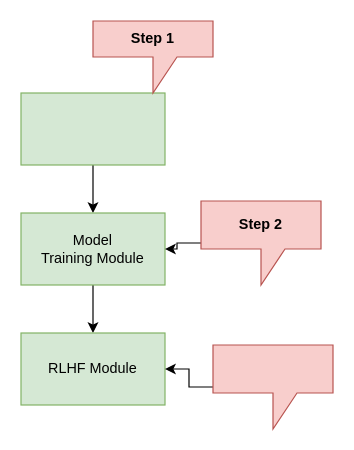
This 354x450 diagram has some shape labels left out. The shapes that lost their labels are listed below. From the top down, each one's centre as x and y in pixels, then its label:
At [92,128]: "Data preparation Module".
At [272,386]: "Step 3".
